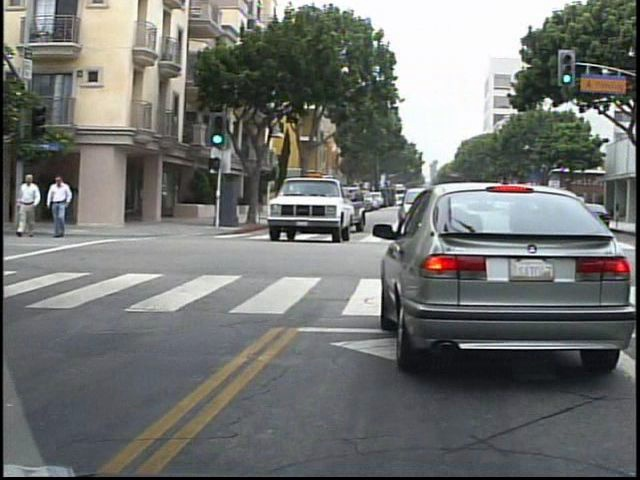person: (21, 169, 52, 242), (51, 173, 80, 241)
